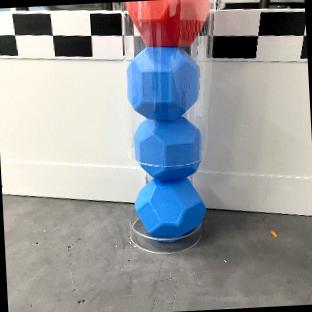Loader: (122, 0, 213, 253)
V5_BLUE: (127, 46, 199, 119), (134, 177, 204, 238), (134, 117, 201, 177)
V5_RED: (125, 0, 210, 46)
